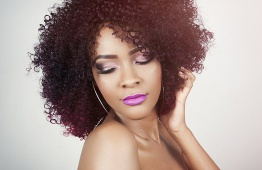female: (89, 23, 170, 123)
